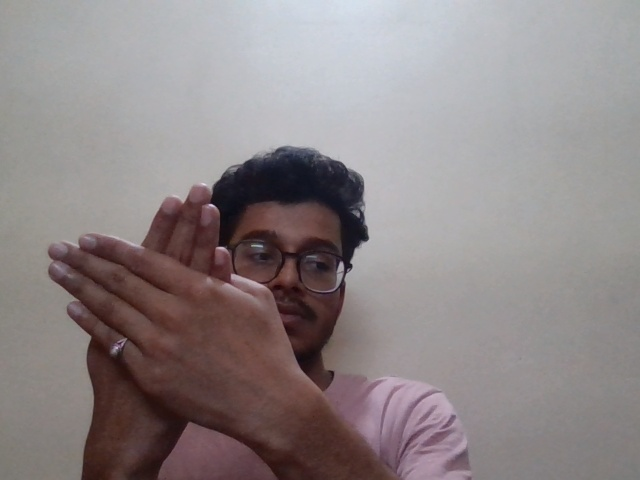what: (37, 178, 302, 394)
